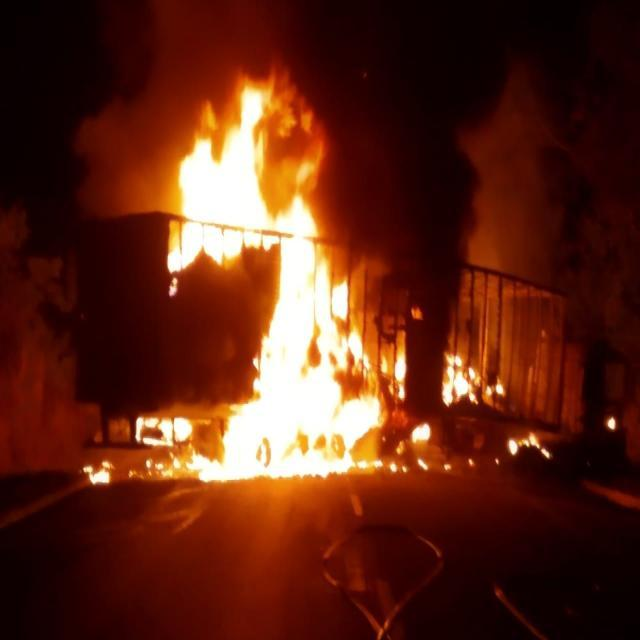Fire: (224, 265, 380, 480), (168, 65, 326, 272), (0, 214, 80, 474), (128, 447, 224, 488), (374, 322, 408, 428), (137, 415, 211, 447), (442, 348, 479, 406), (508, 430, 551, 460), (83, 460, 114, 490), (391, 440, 408, 472), (484, 376, 504, 398), (410, 423, 430, 443), (167, 276, 179, 298), (412, 306, 422, 321), (417, 458, 428, 471), (607, 416, 616, 429), (442, 463, 452, 470), (468, 458, 473, 467)
Smoke: (314, 0, 511, 267), (0, 0, 180, 210), (562, 4, 640, 343), (512, 0, 562, 277), (180, 0, 314, 87)
